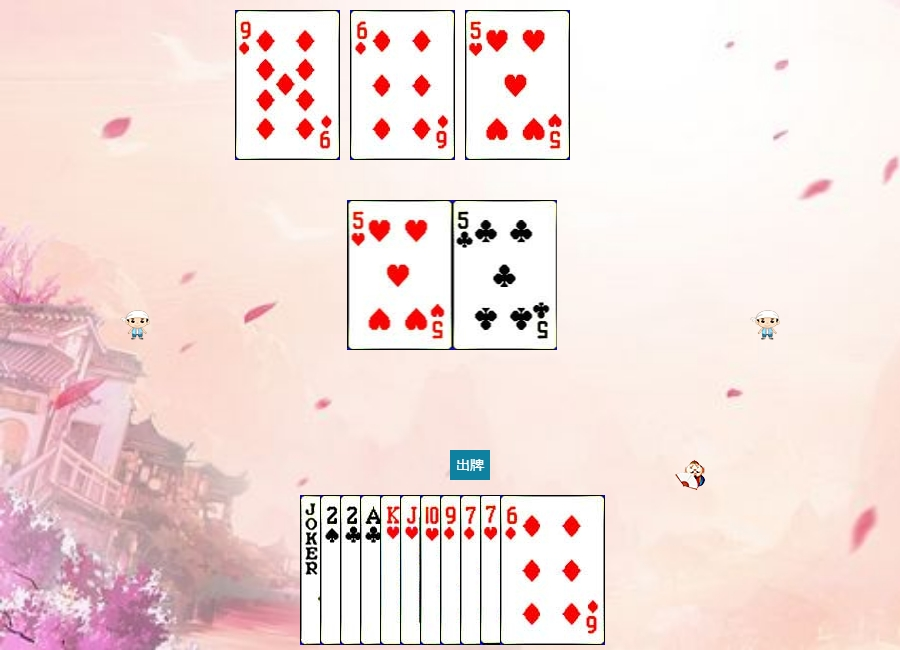10~3: (420, 495, 525, 645)
11~3: (400, 495, 505, 645)
13~3: (380, 495, 485, 645)
14~2: (360, 495, 465, 645)
15~2: (340, 495, 445, 645)
15~4: (320, 495, 425, 645)
17~3: (300, 495, 405, 645)
5~2: (453, 200, 558, 350)
5~3: (465, 10, 570, 160), (348, 200, 453, 350)
6~1: (350, 10, 455, 160), (500, 495, 605, 645)
7~1: (460, 495, 565, 645)
7~3: (480, 495, 585, 645)
9~1: (235, 10, 340, 160), (440, 495, 545, 645)
